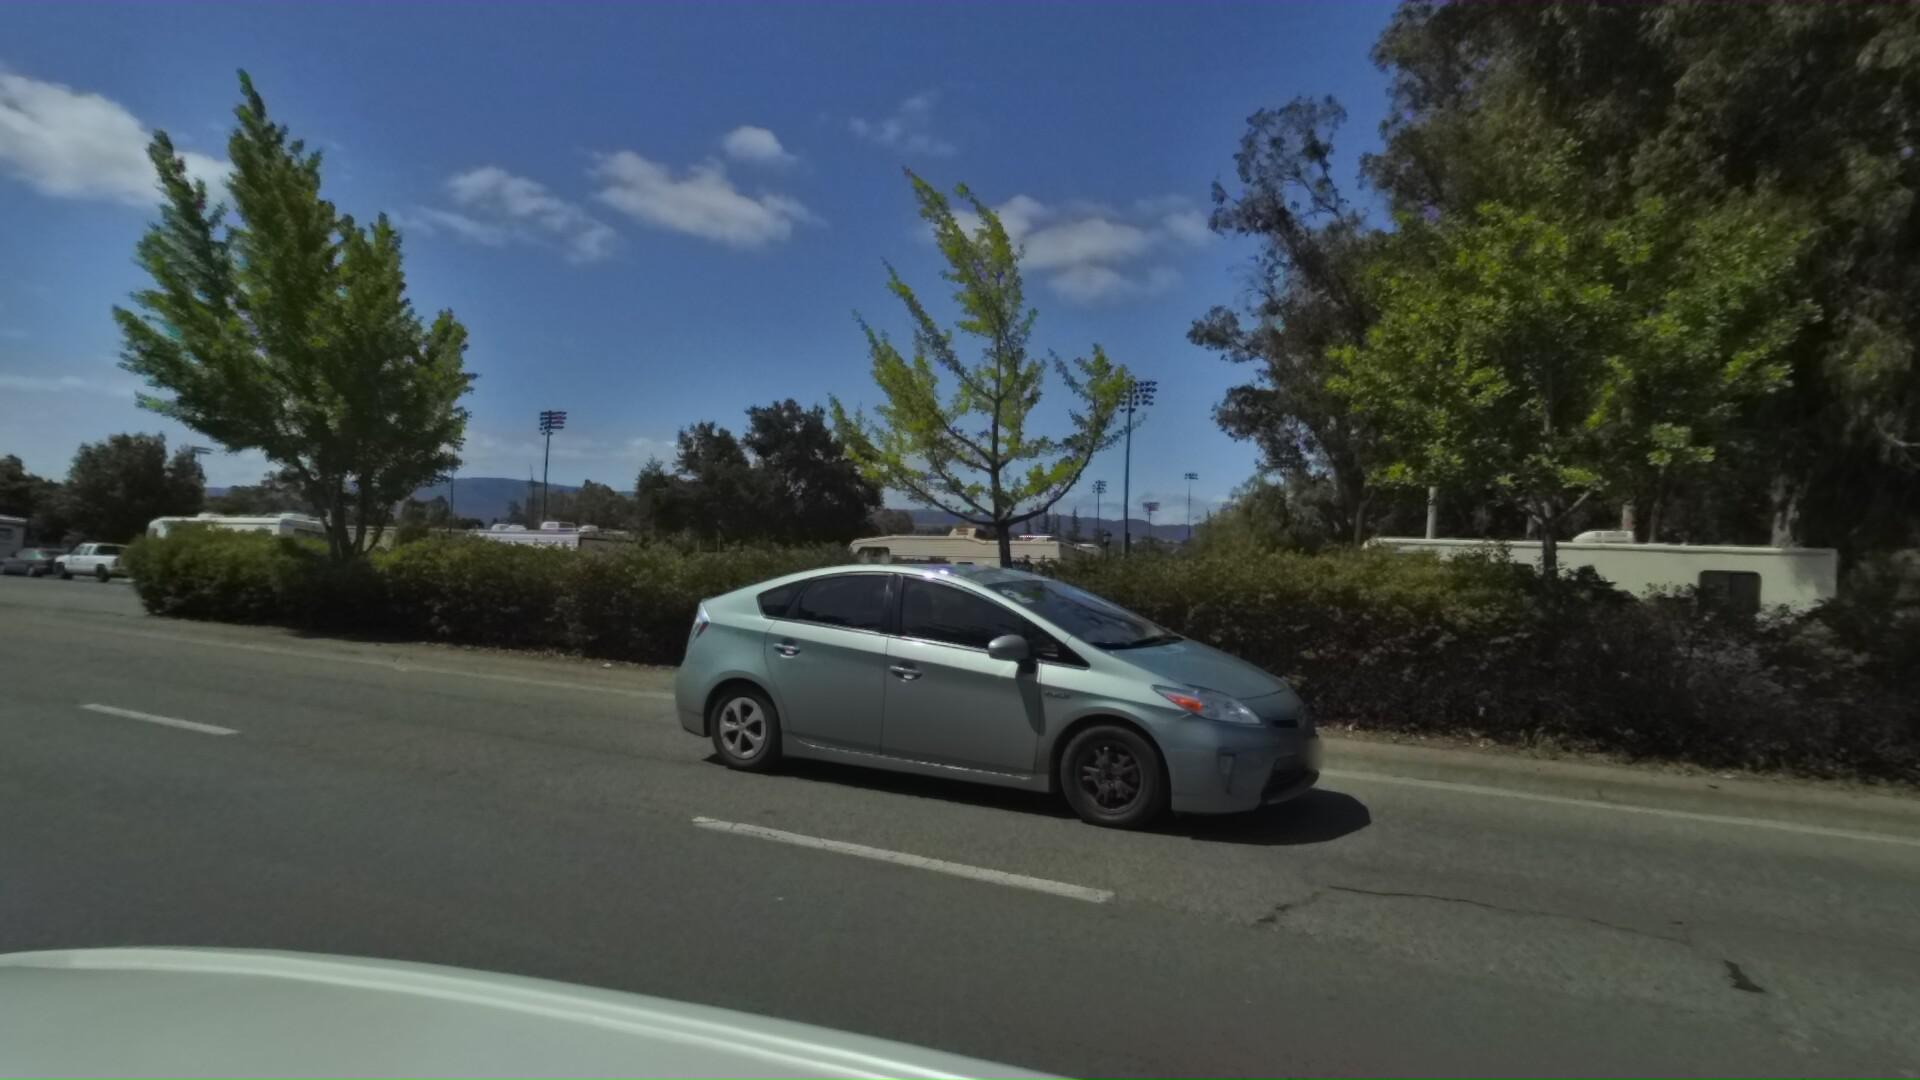car: (647, 541, 1360, 868), (44, 538, 166, 585), (0, 546, 86, 582), (1902, 632, 1920, 765)
other_vehicle: (1298, 513, 1805, 735), (798, 516, 1095, 667), (415, 518, 636, 621), (125, 506, 345, 600), (0, 508, 36, 579)
